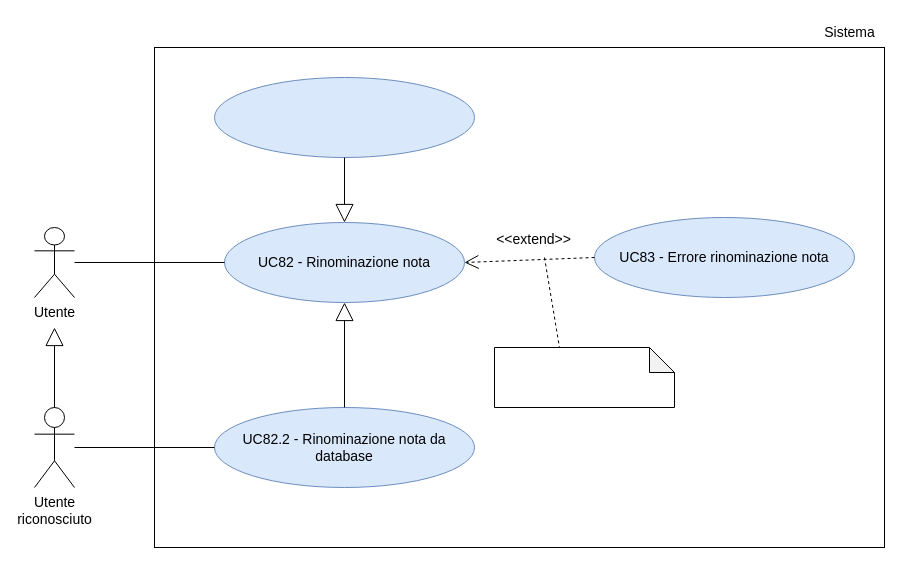
The diagram is 902 pixels wide and 565 high, and some of its shapes have lost their labels. The box of each missing label's shape, as (x1, y1, x2, y2) in pixels:
Condizione Il sistema non riesce a rinominare la nota: (494, 346, 674, 408)
UC82.1 - Rinominazione nota da File System: (214, 76, 474, 158)
